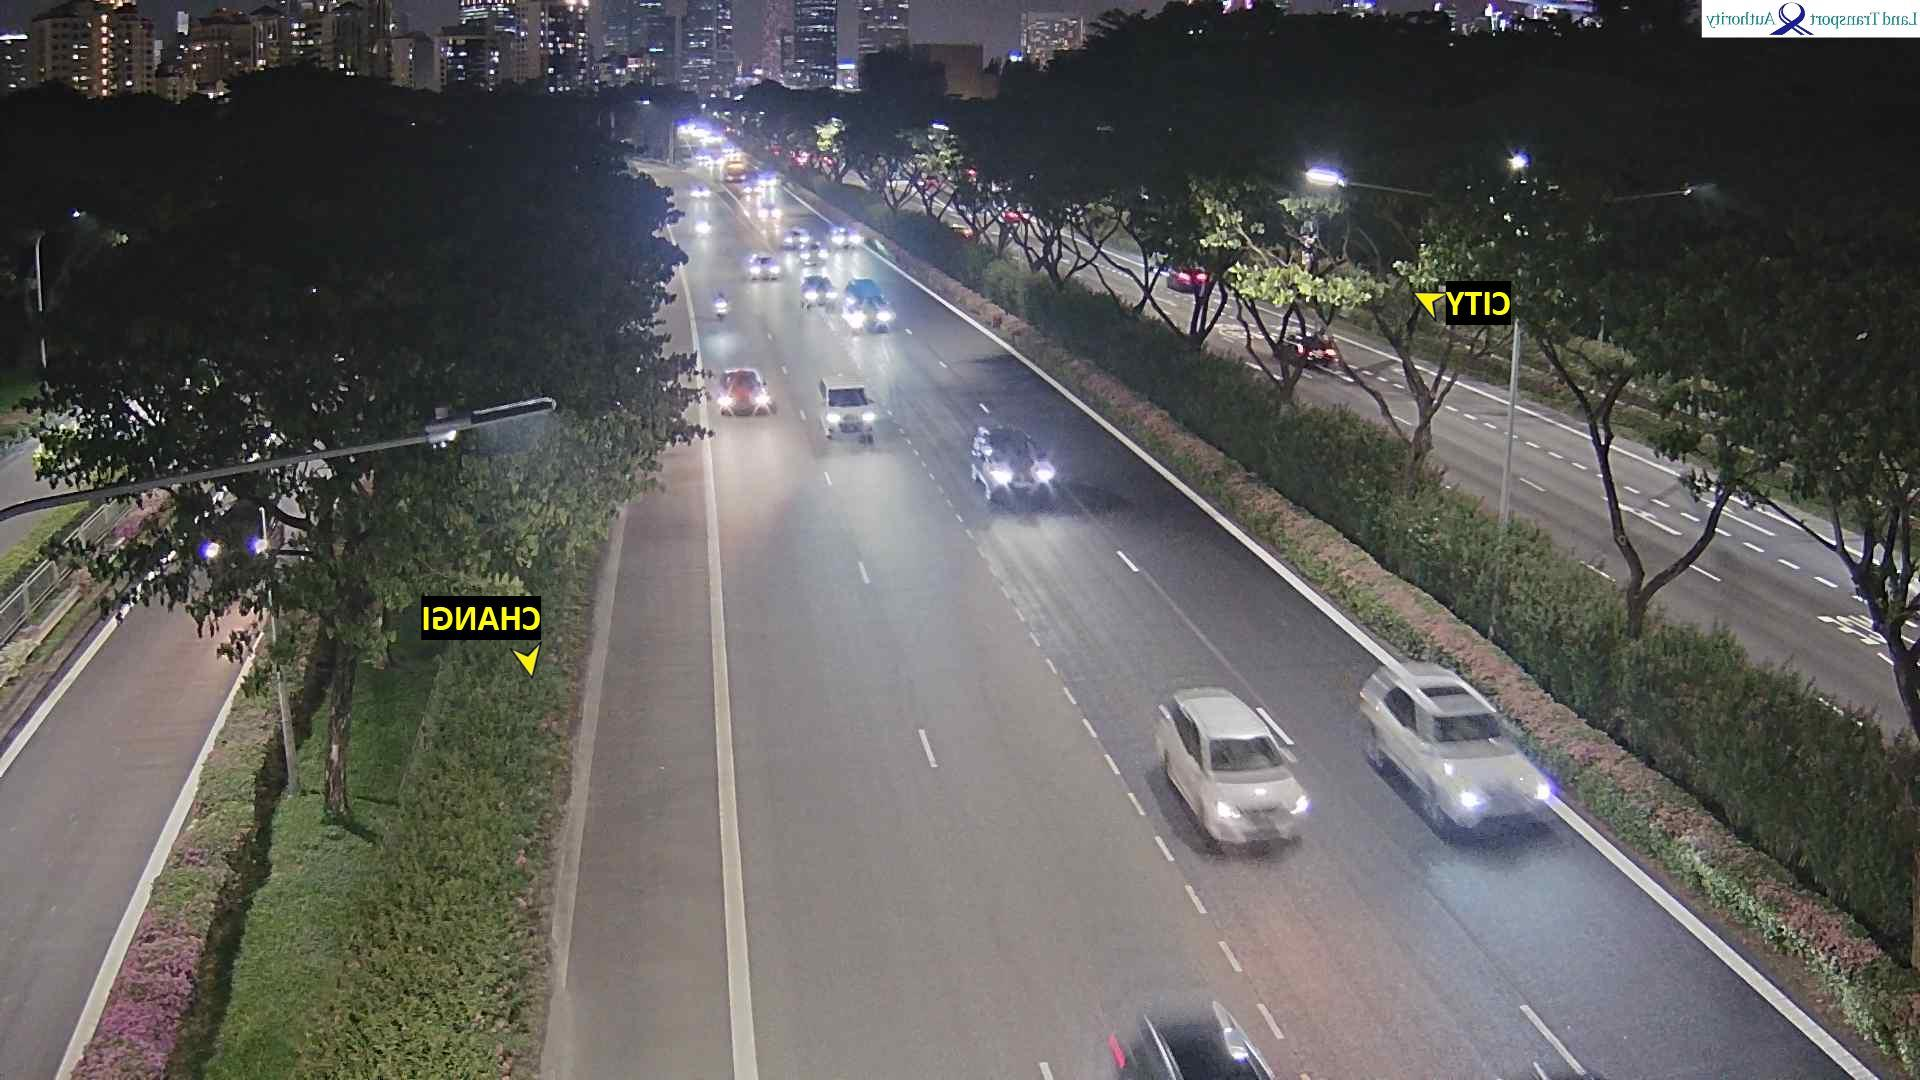incoming: (1413, 718, 1554, 851), (1181, 736, 1309, 854), (975, 443, 1054, 510), (816, 388, 879, 440), (718, 373, 768, 422), (843, 293, 895, 336), (801, 283, 838, 311), (747, 258, 781, 287), (836, 225, 861, 250), (801, 245, 828, 264), (712, 300, 728, 322)
